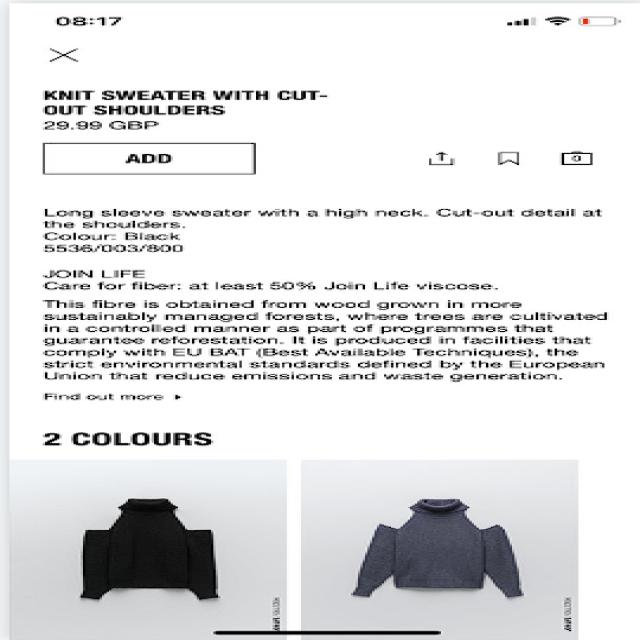button: (30, 135, 281, 177)
icon button: (30, 39, 96, 71), (546, 139, 601, 173), (481, 142, 537, 173), (421, 143, 473, 172)
image: (7, 459, 288, 637), (312, 458, 589, 635)
row: (0, 455, 640, 639)
text: (33, 197, 613, 414), (21, 75, 362, 132), (24, 422, 248, 452)
